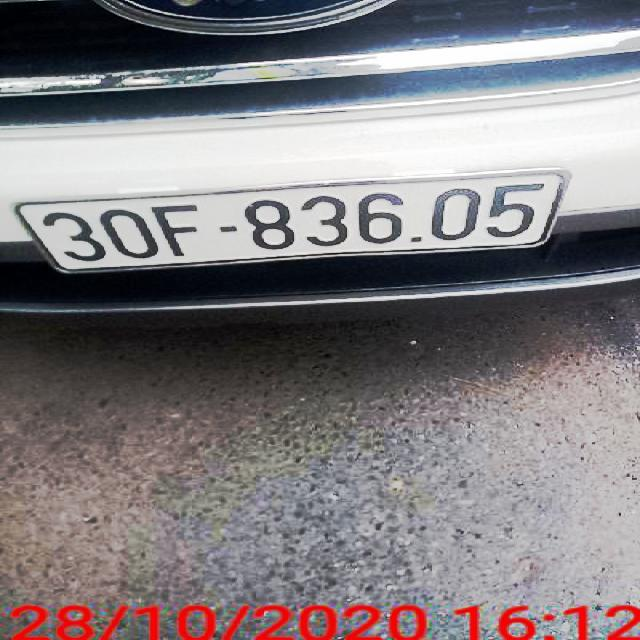license_plate: (13, 172, 566, 274)
